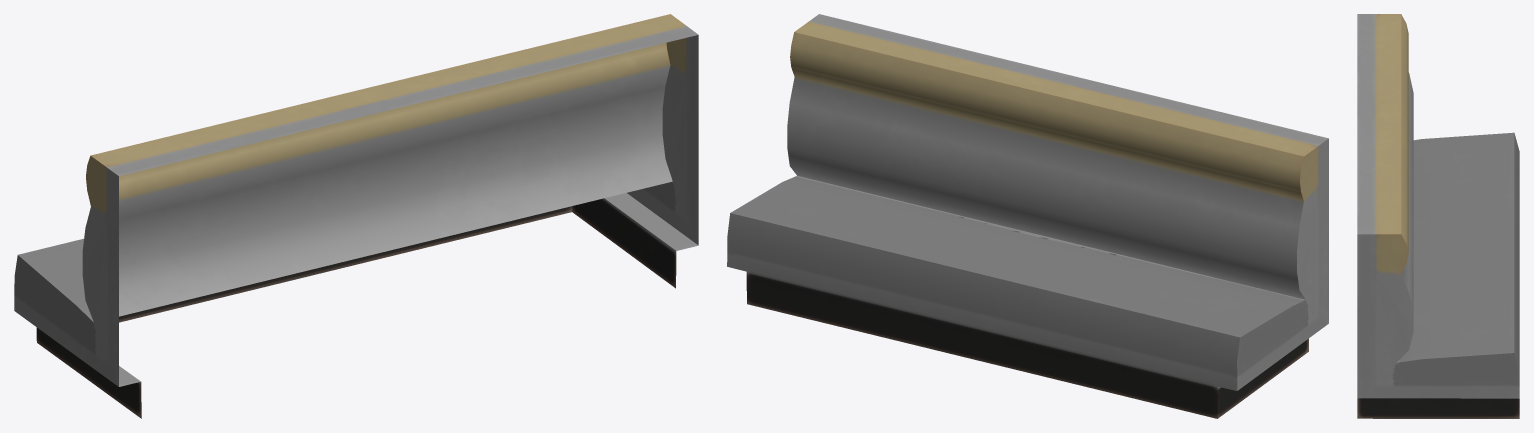
File: Prfb_Canteen_01_01_Seat1.fbx
3 renders of one model, left to right at view 1: azimuth 30°, elevation 25°; view 2: azimuth 150°, elevation 25°; view 3: azimuth 270°, elevation 25°, orthographic. The views are drawn at different scales.
Visible parts, largest first — view 1: Mat_Canteen_01_01_Green; view 2: Mat_Canteen_01_01_Green; view 3: Mat_Canteen_01_01_Green.
Part boxes in pixels (x1,y1,x2,y2): Mat_Canteen_01_01_Green: [14, 14, 698, 418]; Mat_Canteen_01_01_Green: [727, 14, 1328, 418]; Mat_Canteen_01_01_Green: [1357, 14, 1519, 418].
Bounding box in the file's own units: 2.55 × 1.04 × 0.7958.
1 material, 1 textured.
